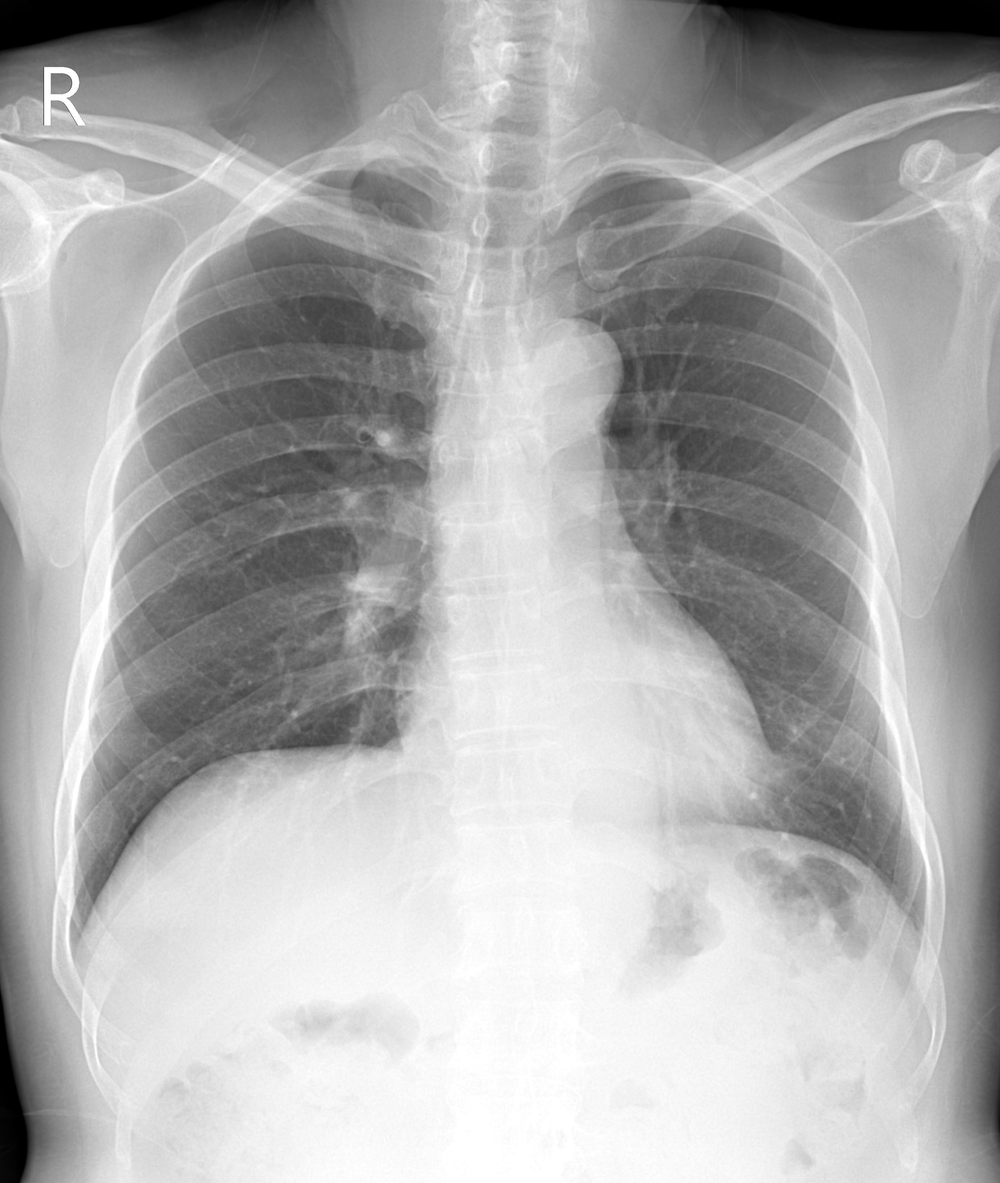Pleural thickening: (511, 317, 624, 438), (588, 164, 655, 178), (383, 153, 425, 169)
